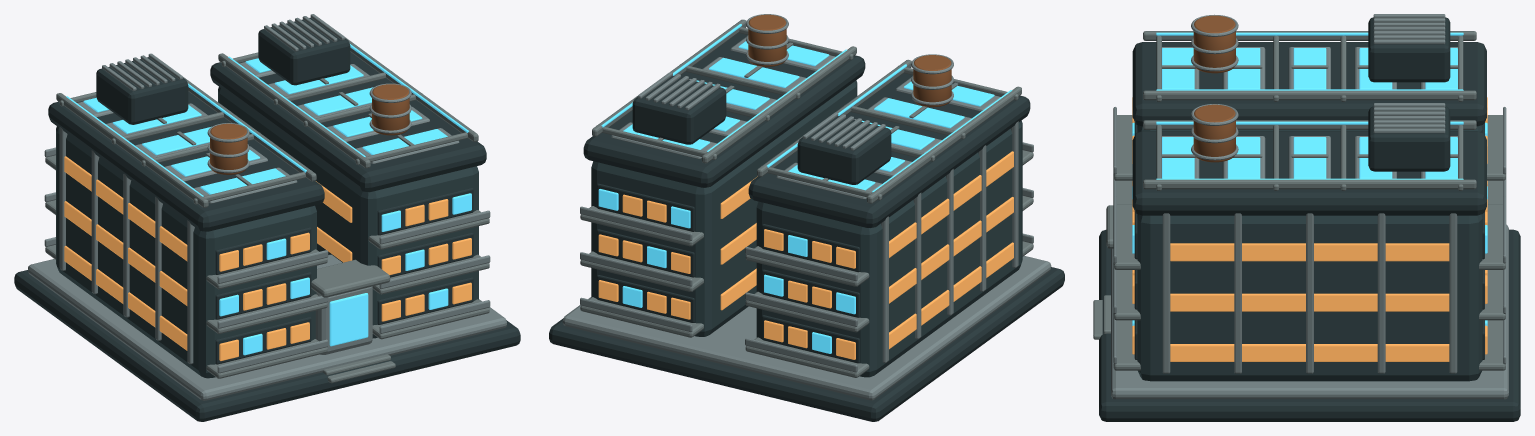
Rendered from battlecity-housing.glb.
3 renders of one model, left to right at view 1: azimuth 30°, elevation 25°; view 2: azimuth 150°, elevation 25°; view 3: azimuth 270°, elevation 25°, orthographic. The views are drawn at different scales.
Parts seen in each view (by area): view 1: DX dark machinery, Habitat satin chrome, Habitat blue grey armour, Habitat brushed steel, Habitat cyan window glow, Habitat warm window glow, DX mine copper shell; view 2: DX dark machinery, Habitat blue grey armour, Habitat satin chrome, Habitat brushed steel, Habitat warm window glow, Habitat cyan window glow, DX mine copper shell; view 3: DX dark machinery, Habitat blue grey armour, Habitat satin chrome, Habitat brushed steel, Habitat warm window glow, Habitat cyan window glow, DX mine copper shell.
Boxes of the visible parts, <box> form: DX dark machinery: <box>14,17,520,421</box>; Habitat satin chrome: <box>28,14,506,400</box>; Habitat blue grey armour: <box>56,87,478,378</box>; Habitat brushed steel: <box>45,37,489,383</box>; Habitat cyan window glow: <box>66,44,471,355</box>; Habitat warm window glow: <box>64,156,471,360</box>; DX mine copper shell: <box>210,84,409,174</box>; DX dark machinery: <box>549,33,1064,421</box>; Habitat blue grey armour: <box>591,80,1022,377</box>; Habitat satin chrome: <box>562,14,1051,400</box>; Habitat brushed steel: <box>580,19,1033,377</box>; Habitat warm window glow: <box>598,151,1013,359</box>; Habitat cyan window glow: <box>598,24,1012,353</box>; DX mine copper shell: <box>748,14,951,107</box>; DX dark machinery: <box>1099,17,1520,421</box>; Habitat blue grey armour: <box>1137,125,1482,381</box>; Habitat satin chrome: <box>1111,14,1508,399</box>; Habitat brushed steel: <box>1093,31,1505,370</box>; Habitat warm window glow: <box>1132,97,1487,361</box>; Habitat cyan window glow: <box>1132,32,1487,325</box>; DX mine copper shell: <box>1193,15,1235,162</box>.
Size of the model in its own units: 2.88 by 2.02 by 2.92.
